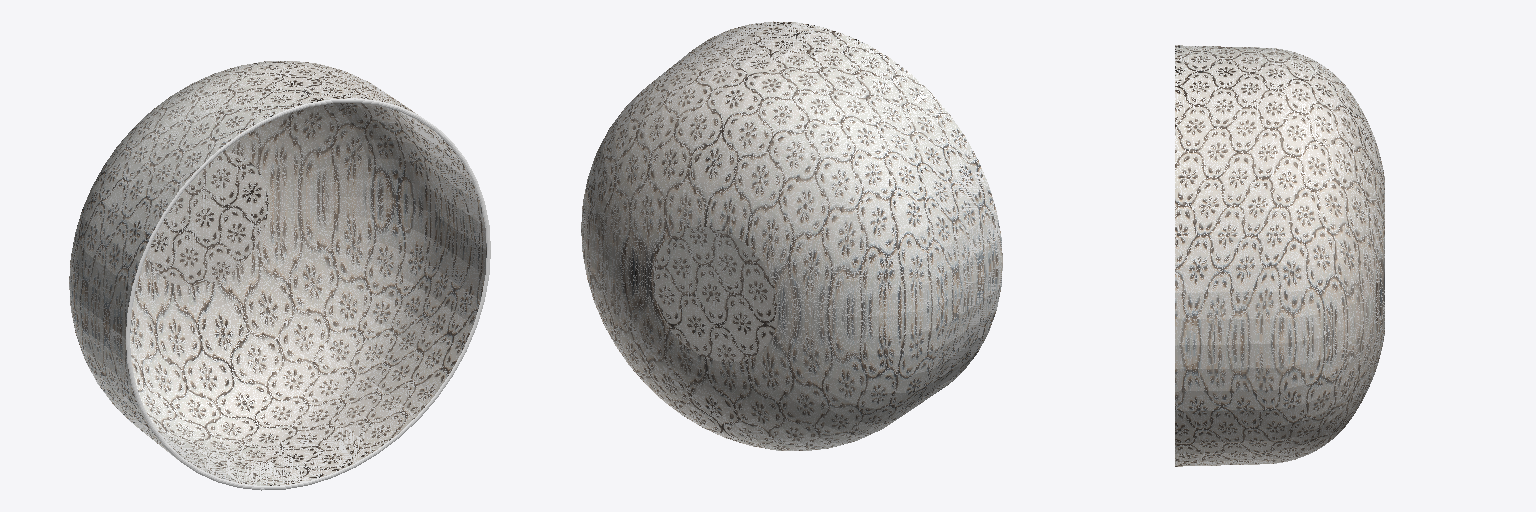
3 views of the same model, side by side, from view 1: azimuth 30°, elevation 25°; view 2: azimuth 150°, elevation 25°; view 3: azimuth 270°, elevation 25° (orthographic).
Size of the model in its own units: 0.6667 by 0.6667 by 0.3333.
Materials: 1 (1 with a texture image).